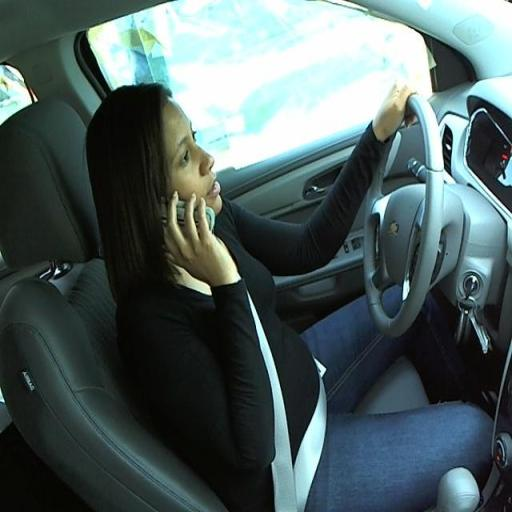talking_phone: (86, 95, 433, 428)
